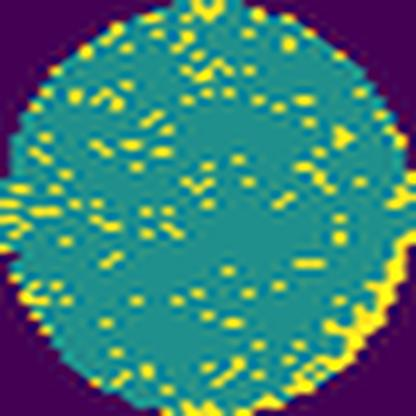Edge-Loc: (276, 221, 415, 402), (161, 393, 274, 416)
